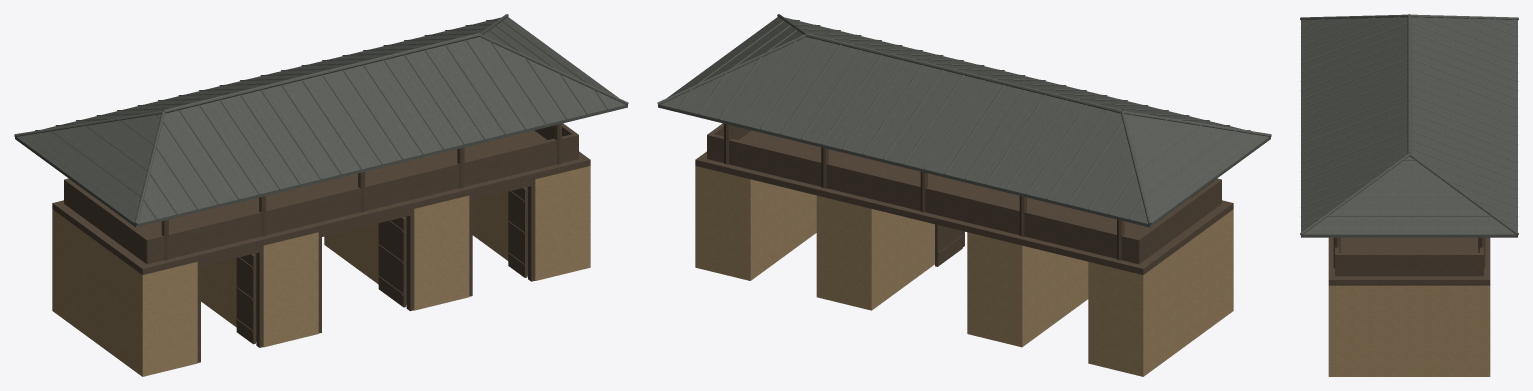
The model's file is shangxi-X-LOD1.glb.
3 renders of one model, left to right at view 1: azimuth 30°, elevation 25°; view 2: azimuth 150°, elevation 25°; view 3: azimuth 270°, elevation 25°, orthographic. The views are drawn at different scales.
Parts seen in each view (by area): view 1: shangxi-X-static_tile, shangxi-X-static_earth, shangxi-X-static_timber; view 2: shangxi-X-static_tile, shangxi-X-static_earth, shangxi-X-static_timber; view 3: shangxi-X-static_tile, shangxi-X-static_earth, shangxi-X-static_timber.
Boxes of the visible parts, box(x1,y1,x2,y2) form: shangxi-X-static_tile: box(14, 14, 628, 227); shangxi-X-static_earth: box(52, 166, 590, 376); shangxi-X-static_timber: box(52, 123, 590, 362); shangxi-X-static_tile: box(657, 14, 1271, 227); shangxi-X-static_earth: box(695, 166, 1233, 376); shangxi-X-static_timber: box(695, 123, 1233, 274); shangxi-X-static_tile: box(1300, 14, 1518, 237); shangxi-X-static_earth: box(1328, 285, 1490, 376); shangxi-X-static_timber: box(1328, 237, 1490, 285).
Bounding box in the file's own units: 26.92 × 11.34 × 11.5.
3 materials, 3 textured.
